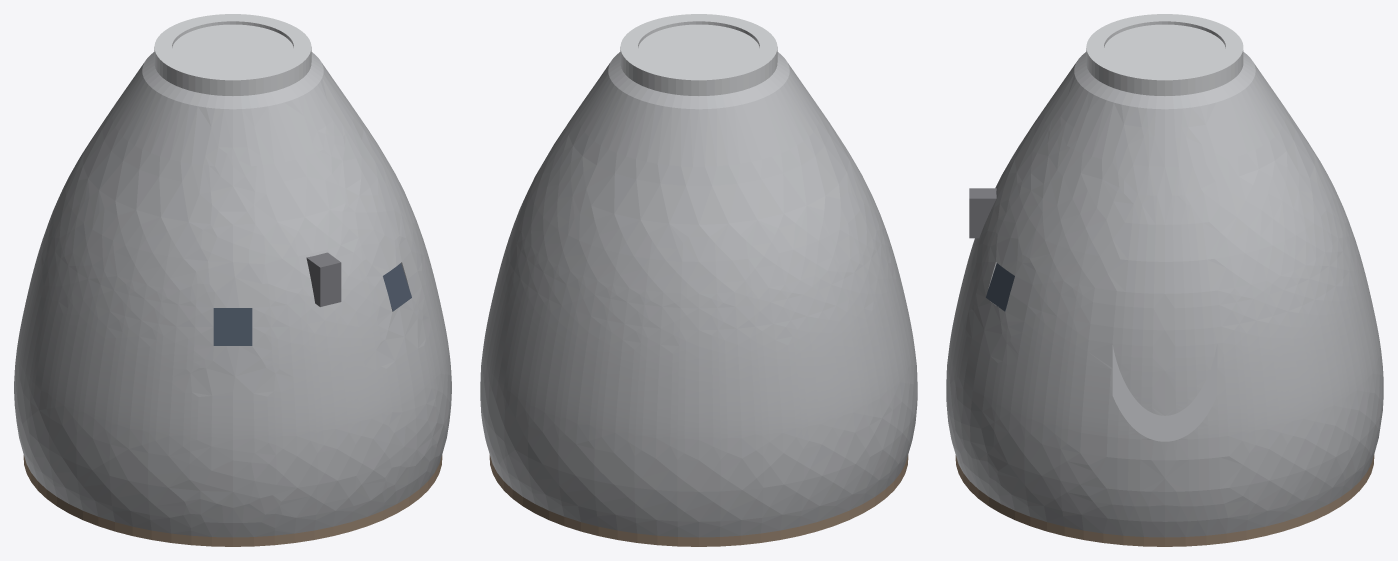
Rendered from cmd04_soyuz_descent.glb.
3 views of the same model, side by side, from view 1: azimuth 30°, elevation 25°; view 2: azimuth 150°, elevation 25°; view 3: azimuth 270°, elevation 25° (orthographic).
Parts seen in each view (by area): view 1: descent_hull, hatch_ring, heat_shield, windows, periscope; view 2: descent_hull, hatch_ring, heat_shield; view 3: descent_hull, hatch_ring, heat_shield, periscope, windows.
Boxes of the visible parts, box(x1,y1,x2,y2) form: descent_hull: box(14, 52, 451, 537); hatch_ring: box(154, 14, 311, 95); heat_shield: box(23, 455, 442, 546); windows: box(213, 263, 411, 345); periscope: box(306, 252, 341, 306); descent_hull: box(480, 52, 917, 537); hatch_ring: box(620, 14, 777, 95); heat_shield: box(489, 455, 908, 546); descent_hull: box(946, 52, 1383, 537); hatch_ring: box(1086, 14, 1243, 95); heat_shield: box(955, 455, 1374, 546); periscope: box(969, 188, 996, 238); windows: box(986, 263, 1014, 311).
Bounding box in the file's own units: 2.51 × 2.85 × 2.51.
